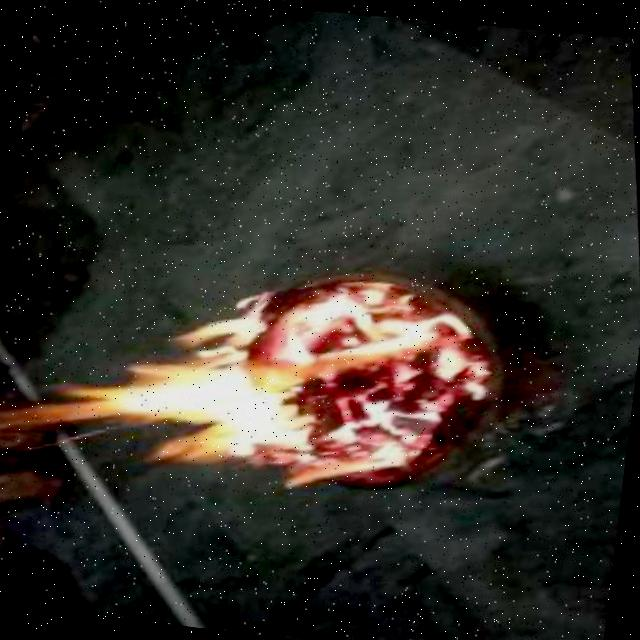fire: (0, 259, 435, 531)
